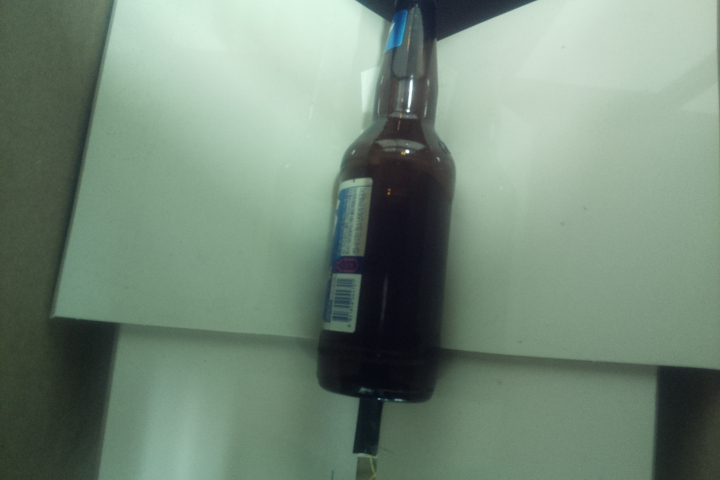makju: (318, 1, 461, 403)
